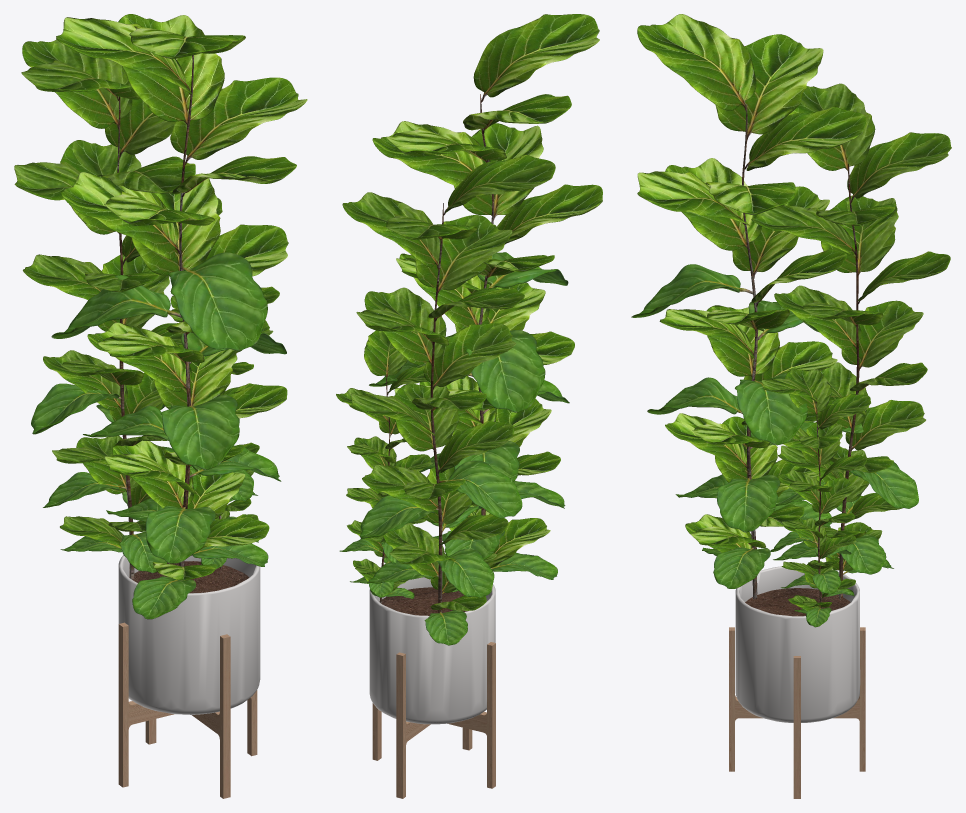
The model's file is plant.glb.
The picture shows the model from 3 angles, left to right: view 1: azimuth 30°, elevation 25°; view 2: azimuth 150°, elevation 25°; view 3: azimuth 270°, elevation 25°; orthographic projection. The views are drawn at different scales.
Parts seen in each view (by area): view 1: normalized; view 2: normalized; view 3: normalized.
Boxes of the visible parts, x1,y1,x2,y2 form: normalized: [14, 14, 307, 798]; normalized: [336, 14, 602, 798]; normalized: [631, 14, 951, 798].
Bounding box in the file's own units: 0.4138 × 1.35 × 0.5554.
7 materials, 6 textured.
